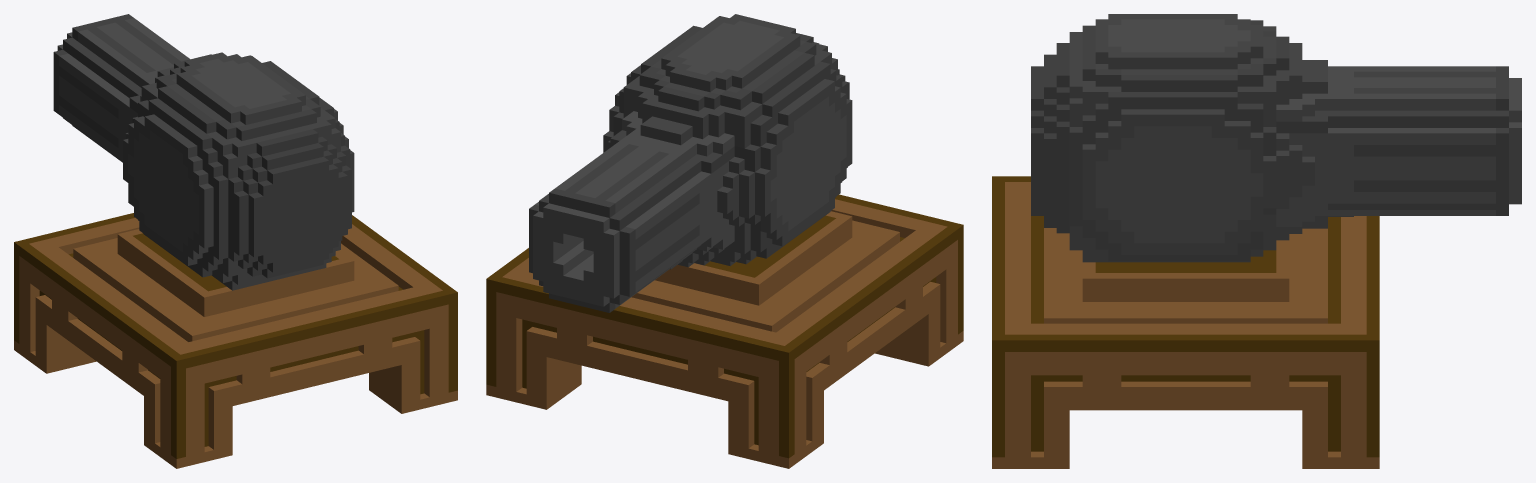
The model's file is Cannon.fbx.
The picture shows the model from 3 angles, left to right: view 1: azimuth 30°, elevation 25°; view 2: azimuth 150°, elevation 25°; view 3: azimuth 270°, elevation 25°; orthographic projection. The views are drawn at different scales.
Parts seen in each view (by area): view 1: Cannon Base, Cannon; view 2: Cannon Base, Cannon; view 3: Cannon, Cannon Base.
Boxes of the visible parts, x1,y1,x2,y2 form: Cannon Base: (14, 213, 457, 468); Cannon: (53, 14, 354, 290); Cannon Base: (486, 194, 963, 468); Cannon: (529, 14, 852, 312); Cannon: (1031, 14, 1521, 262); Cannon Base: (992, 176, 1379, 468).
Bounding box in the file's own units: 0.8816 × 1.2 × 0.8816.
Materials: 2 (2 with a texture image).
